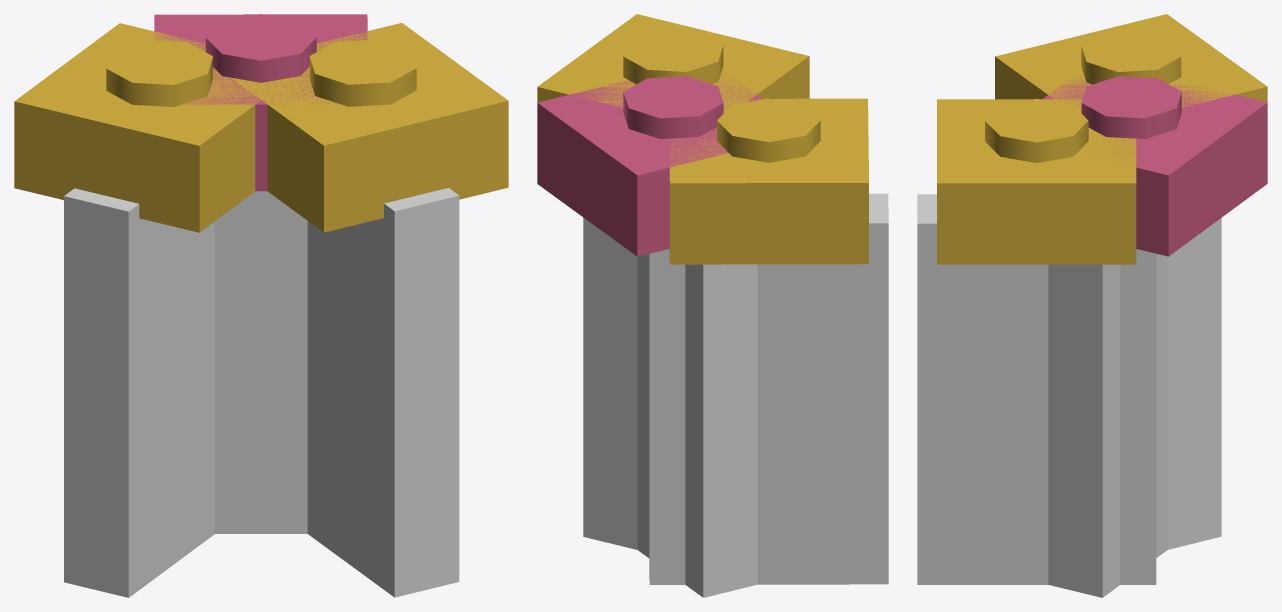
Rendered from LegoFlowers.glb.
3 renders of one model, left to right at view 1: azimuth 30°, elevation 25°; view 2: azimuth 150°, elevation 25°; view 3: azimuth 270°, elevation 25°, orthographic. The views are drawn at different scales.
Parts seen in each view (by area): view 1: LegoFlowers; view 2: LegoFlowers; view 3: LegoFlowers.
Boxes of the visible parts, x1,y1,x2,y2 form: LegoFlowers: [14, 14, 508, 597]; LegoFlowers: [537, 14, 888, 597]; LegoFlowers: [917, 14, 1267, 597].
Bounding box in the file's own units: 0.4023 × 0.4979 × 0.3519.
